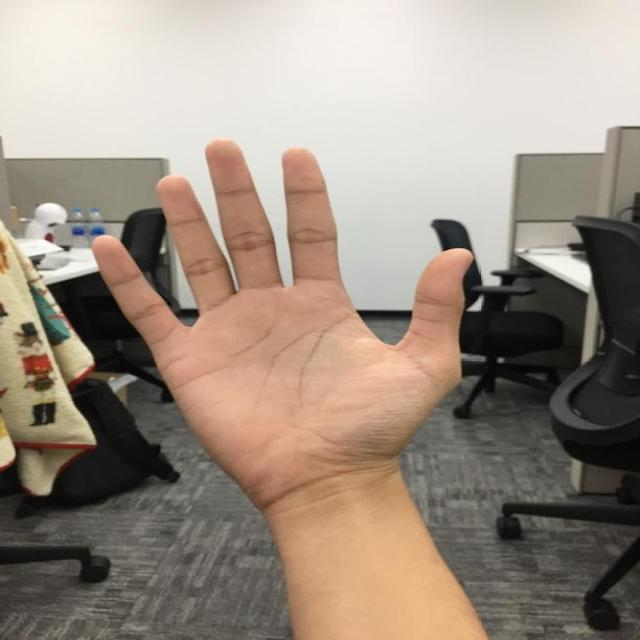no-gloves: (92, 134, 472, 488)
